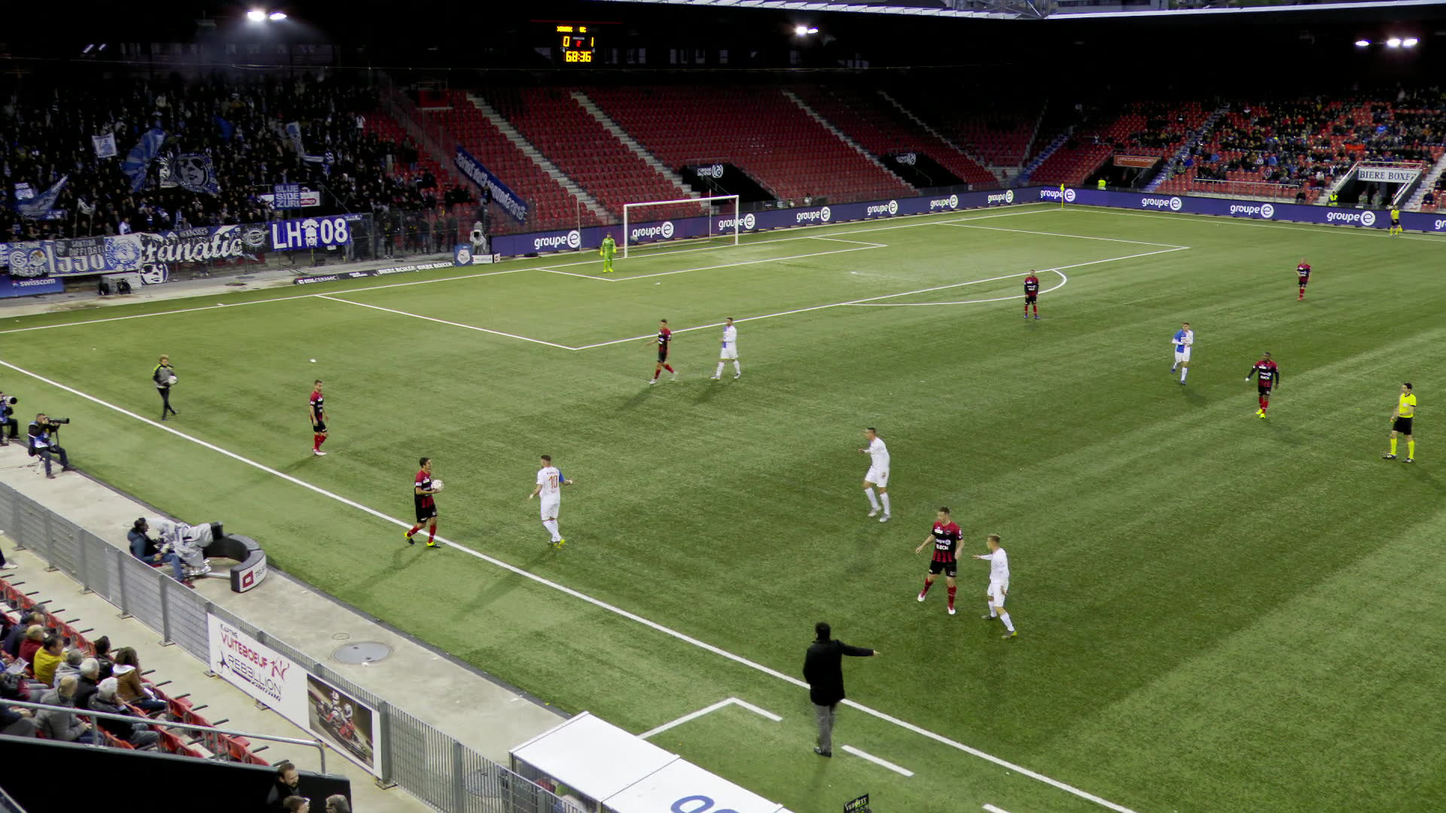ball: (431, 479, 444, 492), (167, 376, 176, 384)
player: (915, 506, 965, 616), (969, 531, 1014, 637), (526, 455, 572, 551), (860, 429, 900, 525), (406, 457, 444, 548), (1248, 350, 1282, 419), (648, 318, 680, 385), (307, 381, 335, 457), (715, 318, 746, 382), (1171, 322, 1194, 385), (1023, 269, 1042, 321), (1296, 257, 1313, 302), (601, 233, 618, 274)
referee: (1383, 382, 1417, 464), (1387, 206, 1402, 239)
